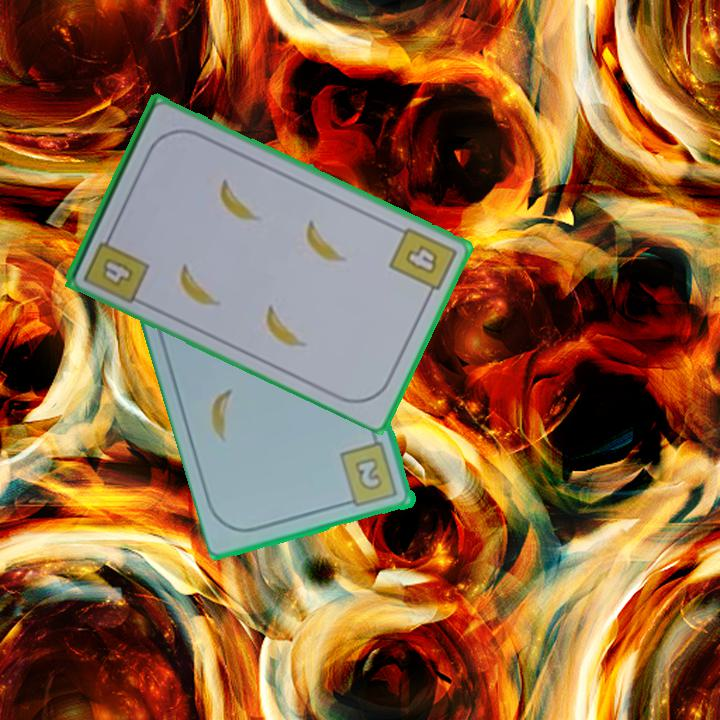2b: (337, 439, 402, 510)
4b: (385, 223, 460, 302), (80, 226, 152, 307)
